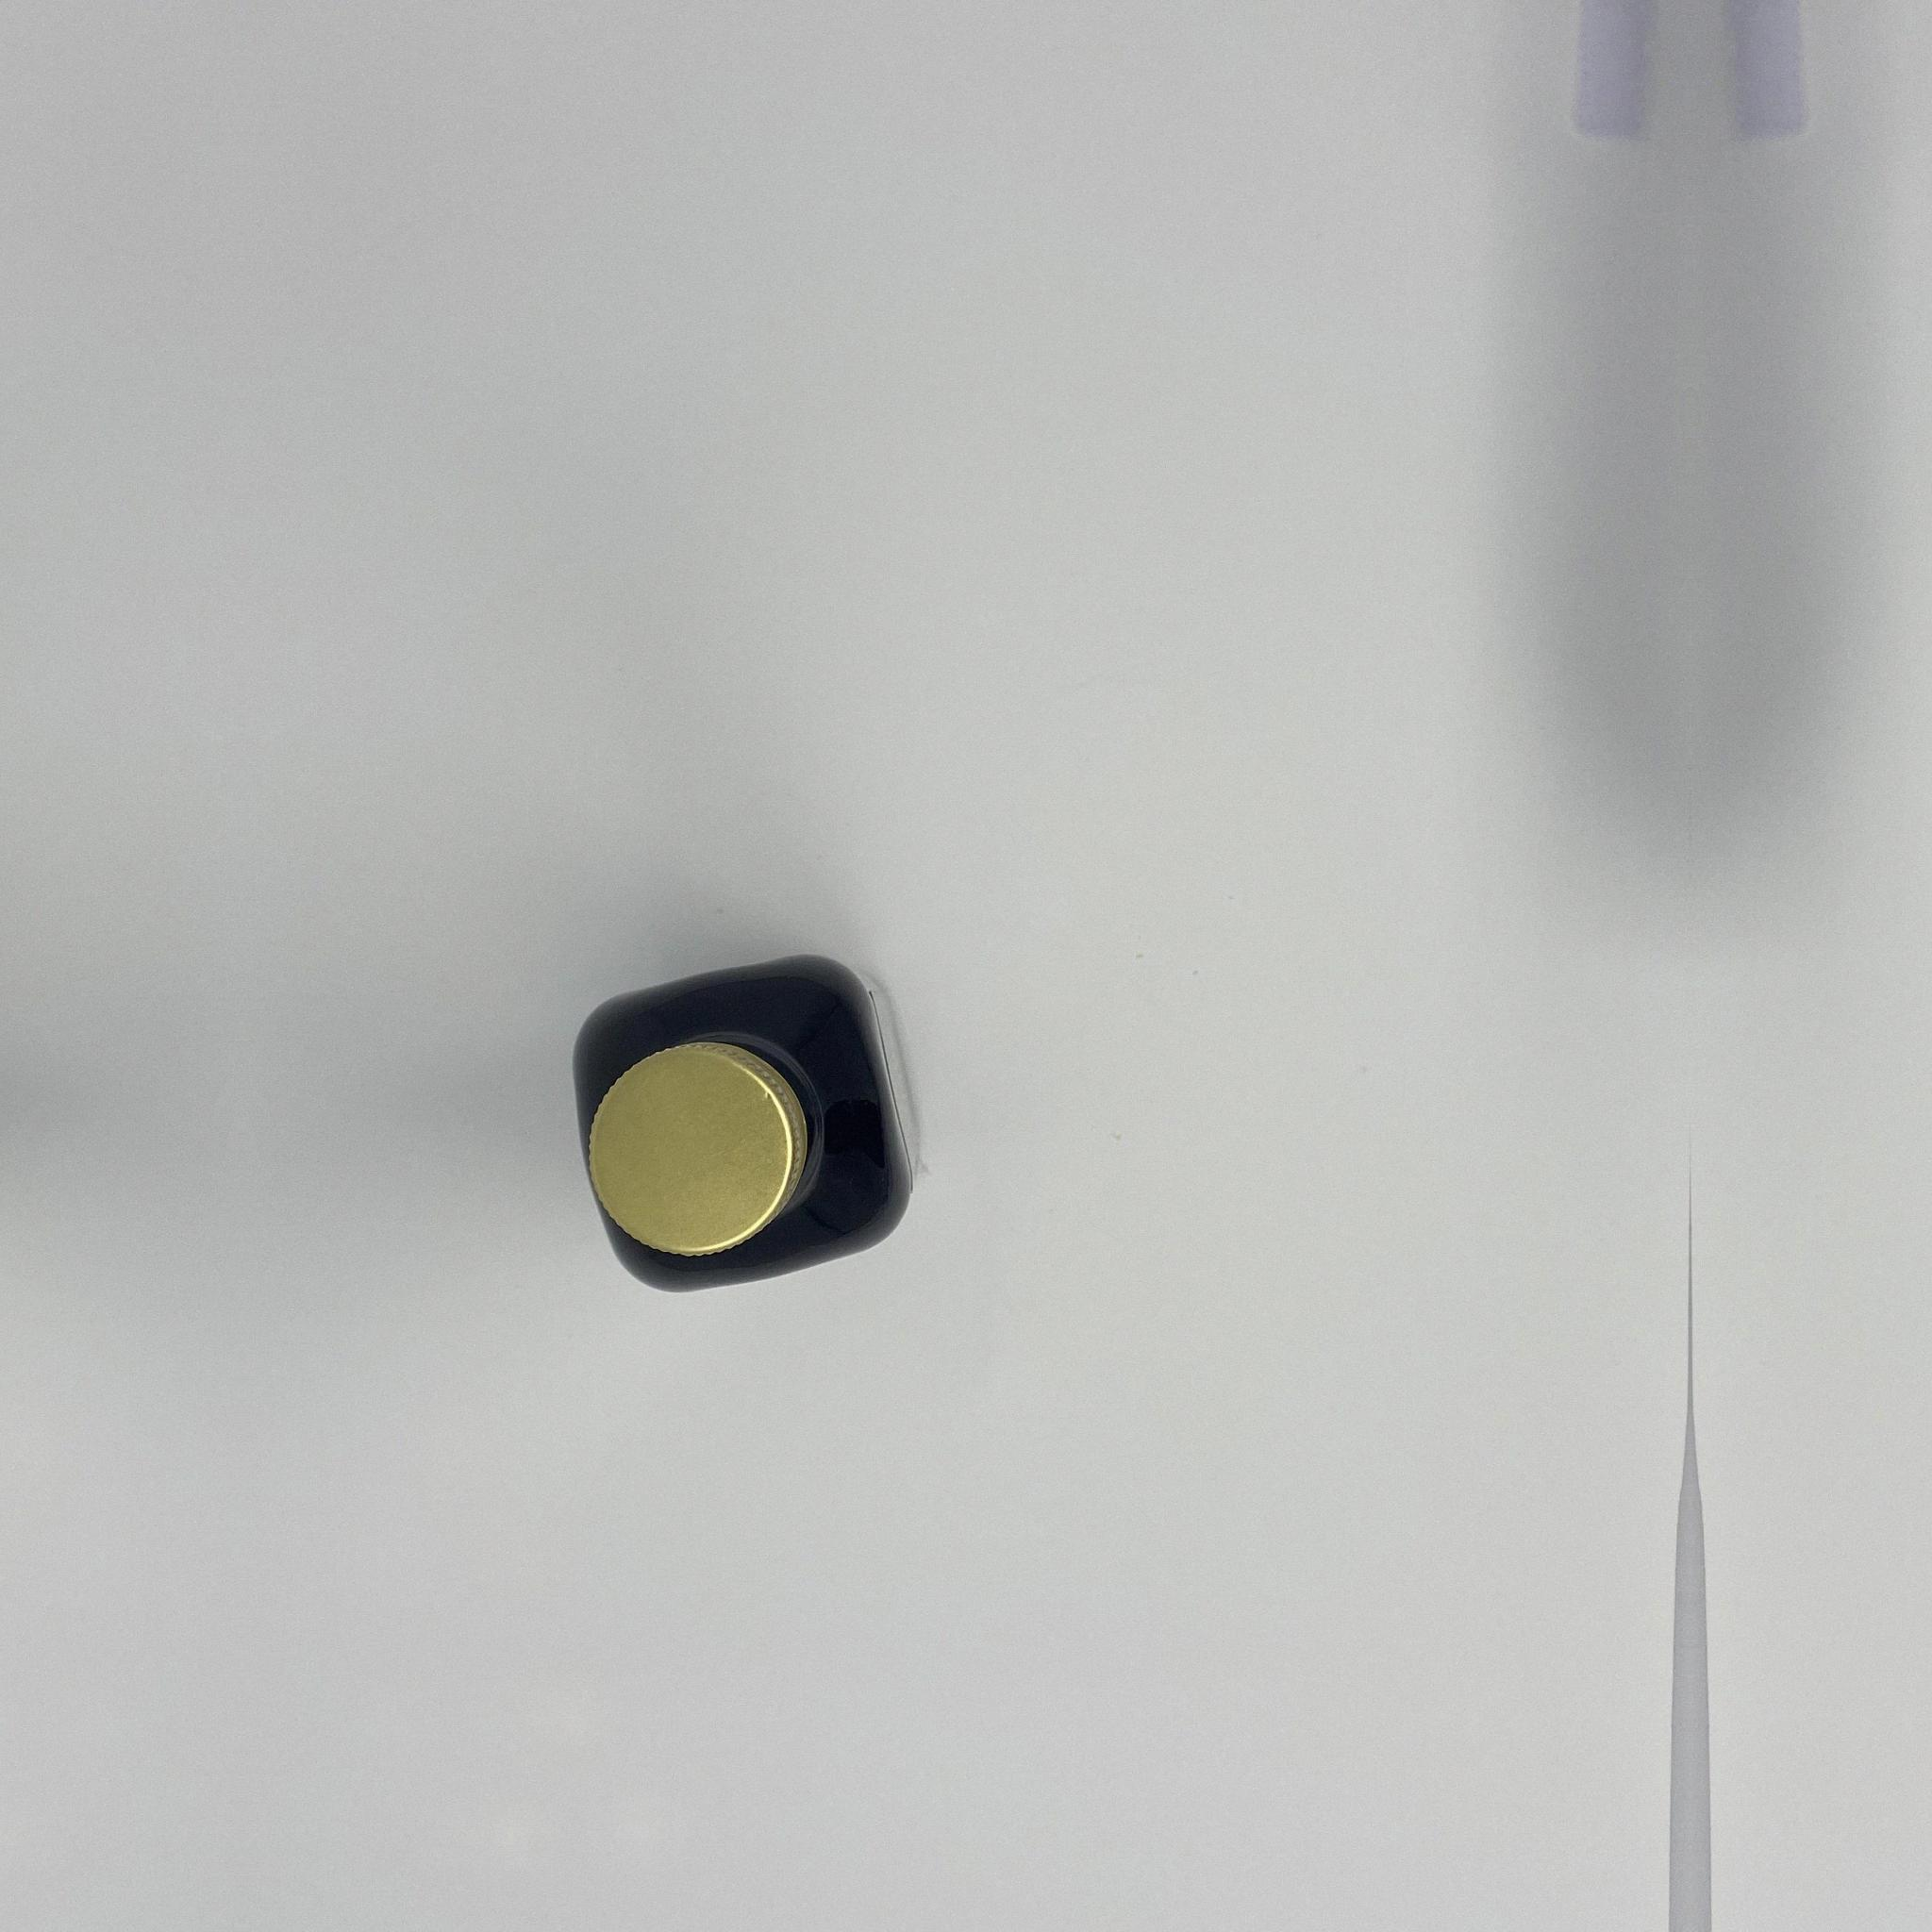glass: (570, 950, 915, 1288)
oil: (570, 950, 915, 1288)
sodocalcique: (570, 950, 915, 1288)
